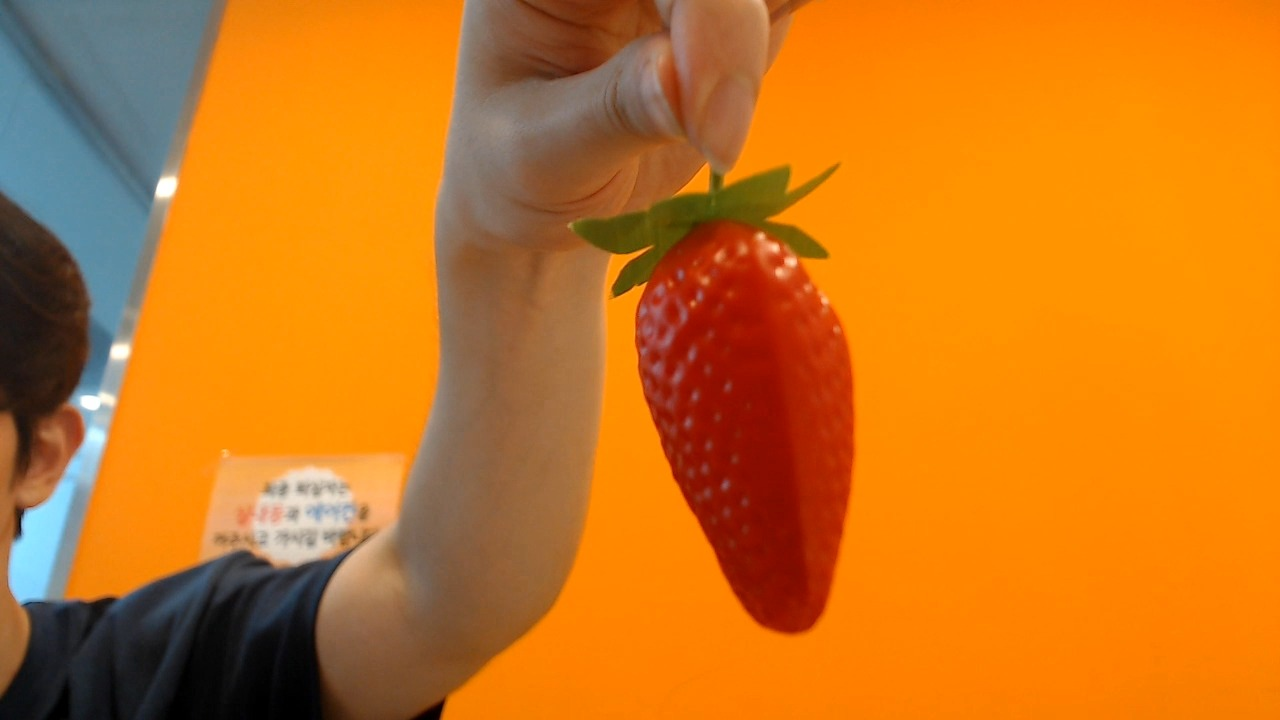strawberry: (618, 186, 857, 635)
